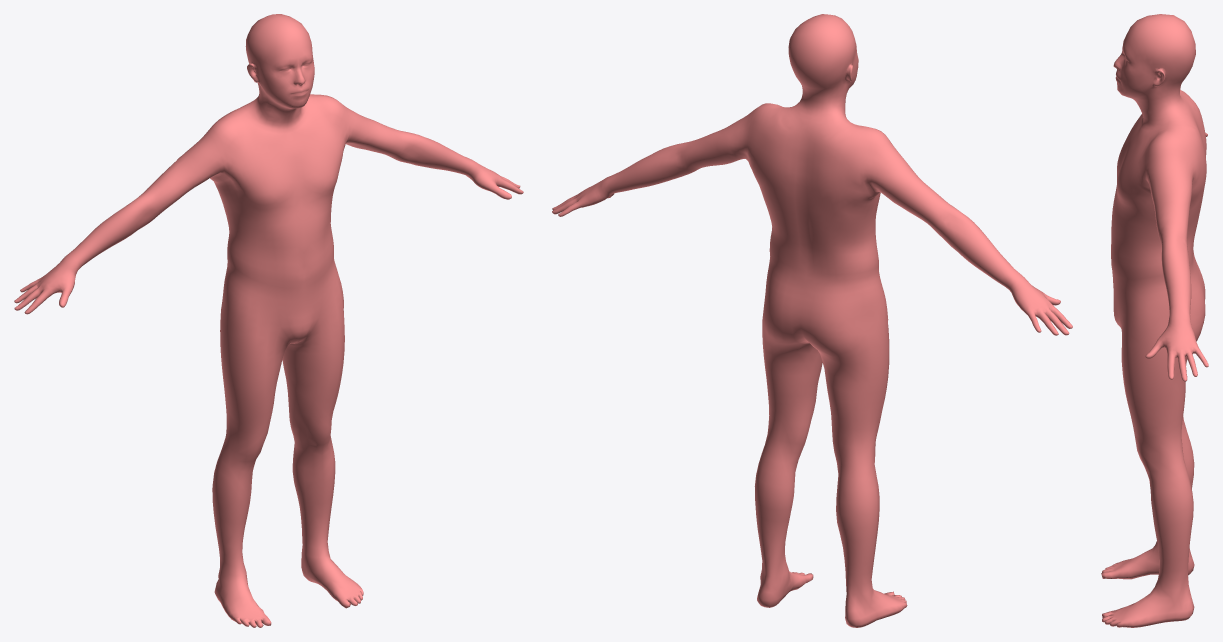
The model's file is male_std.fbx.
3 renders of one model, left to right at view 1: azimuth 30°, elevation 25°; view 2: azimuth 150°, elevation 25°; view 3: azimuth 270°, elevation 25°, orthographic. The views are drawn at different scales.
Visible parts, largest first — view 1: body_std; view 2: body_std; view 3: body_std.
Part boxes in pixels (x1,y1,x2,y2): body_std: [14, 14, 523, 627]; body_std: [552, 14, 1072, 627]; body_std: [1101, 14, 1208, 627].
Size of the model in its own units: 159 by 174 by 29.16.
